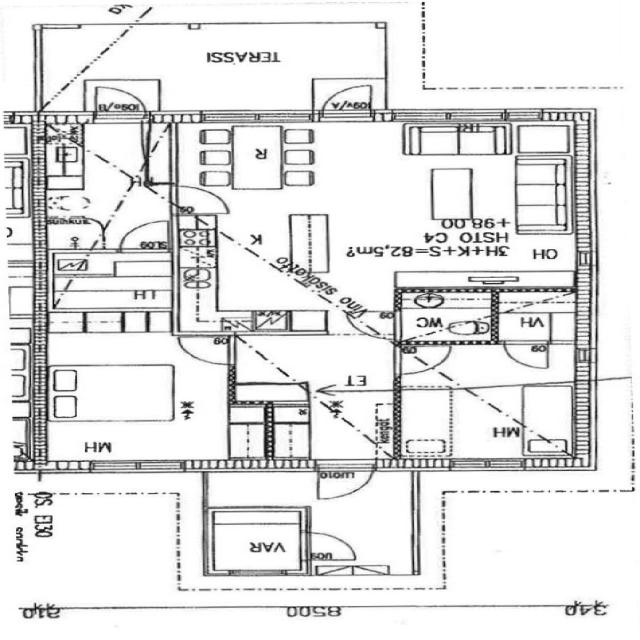door: (313, 79, 383, 124), (312, 458, 378, 502), (87, 81, 154, 123), (298, 528, 368, 563), (391, 342, 458, 378), (174, 333, 236, 367), (171, 184, 232, 217), (348, 308, 403, 342), (114, 218, 174, 249), (497, 339, 553, 372)
window: (192, 106, 315, 128), (385, 106, 513, 125), (86, 458, 190, 476), (442, 456, 526, 474), (226, 566, 289, 580)
zone: (198, 123, 590, 294), (33, 320, 236, 471), (392, 382, 554, 462), (230, 334, 392, 384), (204, 506, 307, 577), (45, 263, 178, 315), (394, 287, 496, 346), (321, 388, 398, 460), (40, 216, 174, 249), (490, 287, 580, 336), (229, 382, 310, 423), (42, 219, 108, 251)
